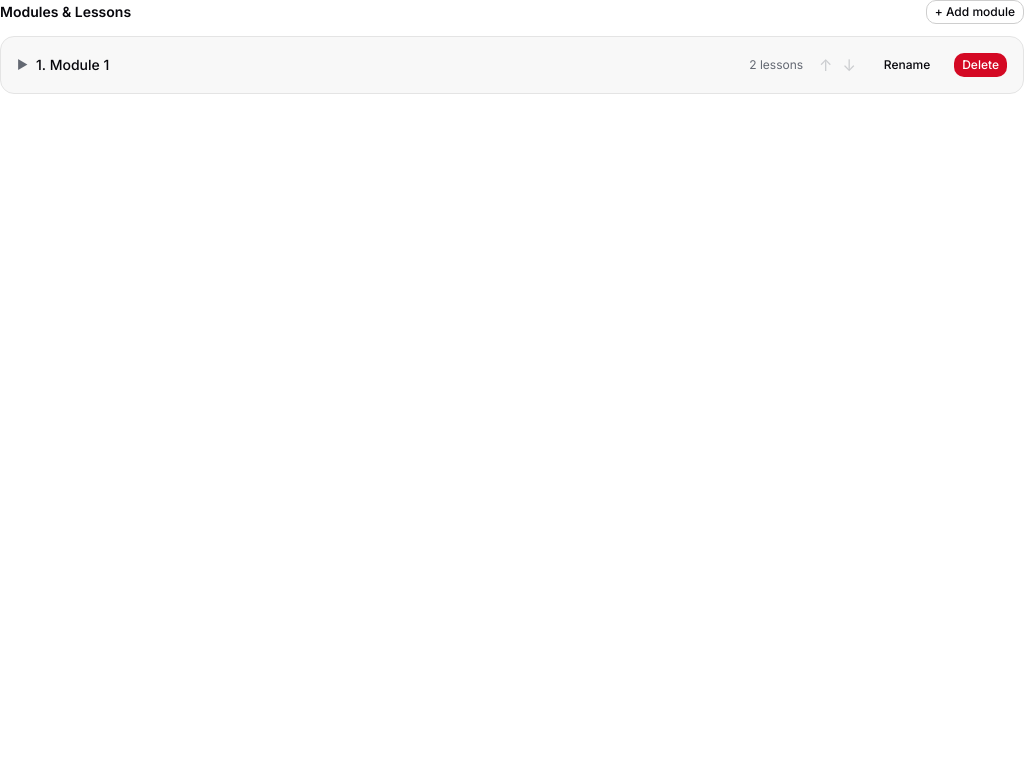
Test: ModuleManager — delete confirmations › opens delete-module confirm when the module delete is clicked
Click the text "1. Module 1": (73, 64) [36,56,109,73]
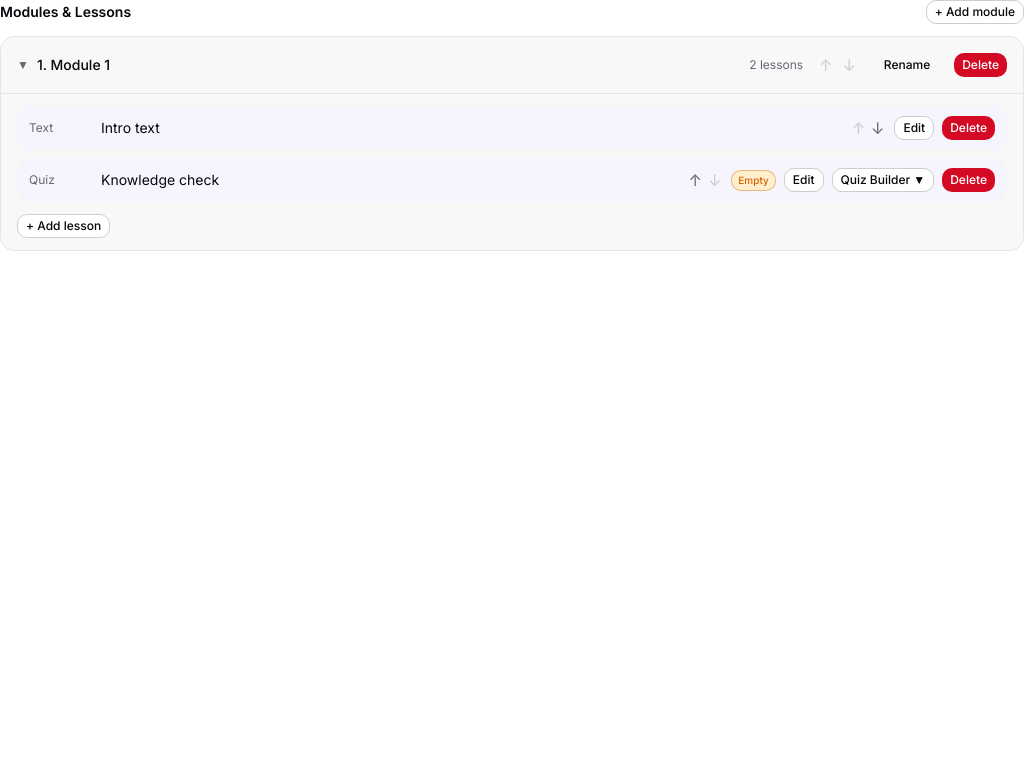
Click the button with aria-label "Delete module Module 1": (981, 65) [954,53,1007,77]
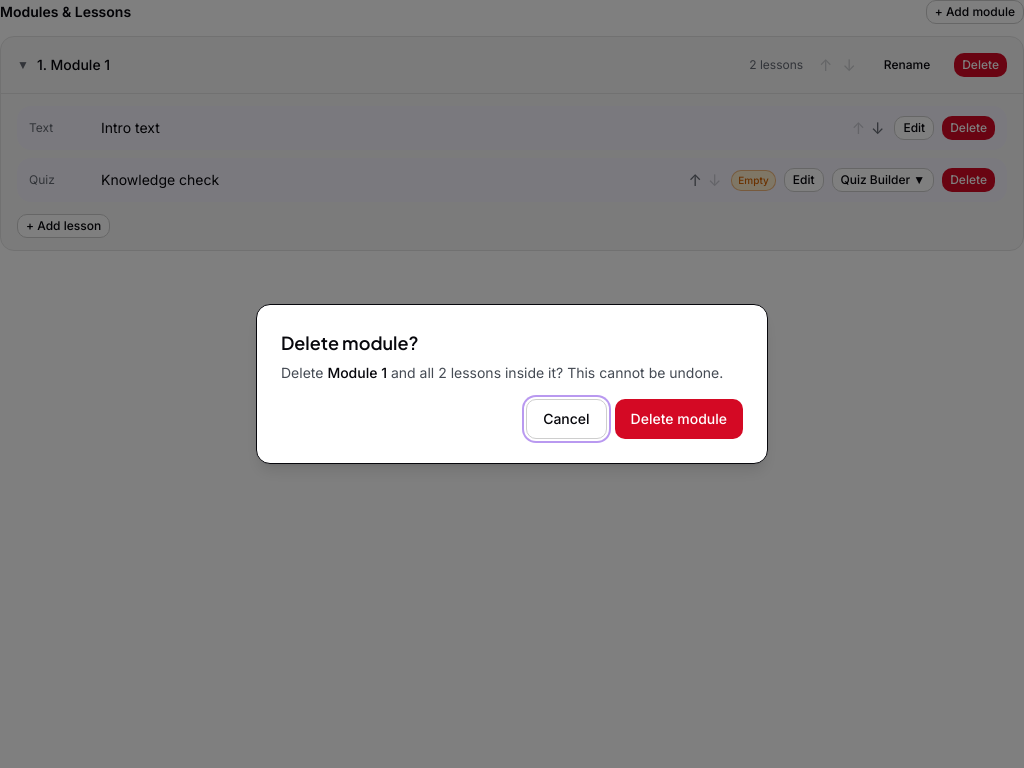
Expected: the heading "Delete module?" is shown, [281,329,418,357]
